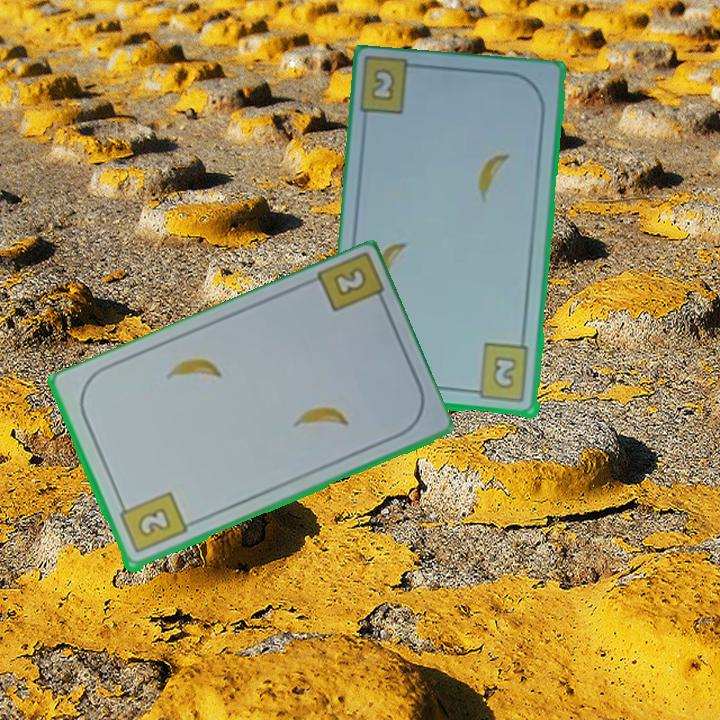2b: (115, 489, 190, 557), (311, 252, 390, 316), (467, 341, 532, 405), (368, 65, 398, 105)
